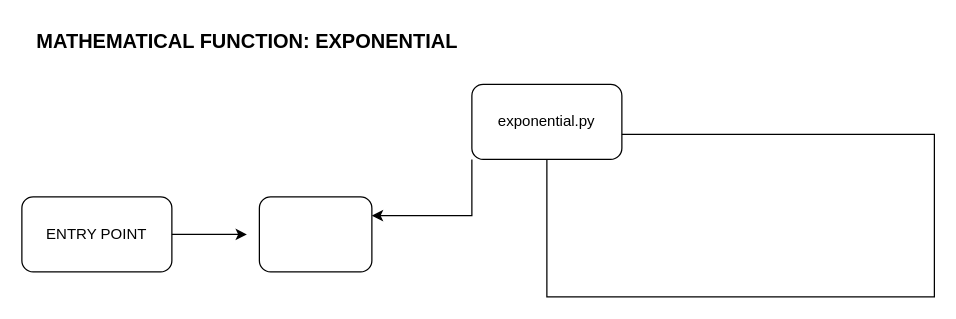
Some shapes in this 956 by 319 pixel diagram are drawn without their labels. Here are the shapes that lost their labels. From the top down, the box of each, then its label:
(258, 196, 372, 272): main.py
(546, 133, 934, 297): ABSTRACT CLASS: FunzioneMatematica() ---> CHILD CLASS: FunzioneEsponenziale()
